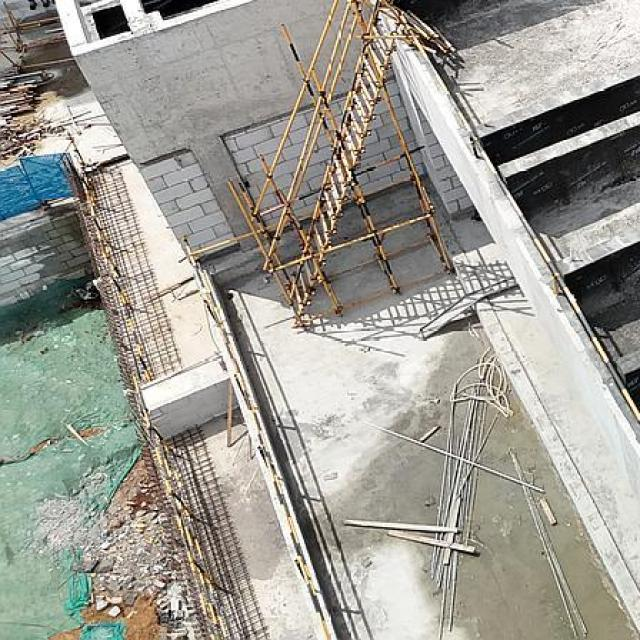edge_guardrail: (401, 15, 640, 425), (184, 243, 332, 640), (129, 370, 225, 640), (110, 275, 150, 384), (80, 176, 121, 278)
